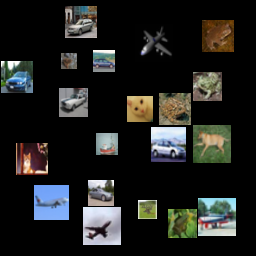airplane: (135, 24, 173, 62), (198, 198, 236, 236), (83, 207, 121, 245), (34, 185, 69, 220)
automobile: (151, 127, 186, 162), (65, 6, 97, 38), (1, 61, 33, 93), (59, 88, 88, 117), (88, 180, 114, 206), (93, 50, 115, 72)
cat: (16, 143, 48, 175), (127, 96, 153, 122)
deer: (138, 200, 157, 219)
dog: (193, 125, 231, 163)
frog: (202, 20, 234, 52), (159, 93, 191, 125), (168, 209, 197, 238), (193, 72, 222, 101), (61, 53, 77, 69)
ship: (96, 133, 118, 155)
